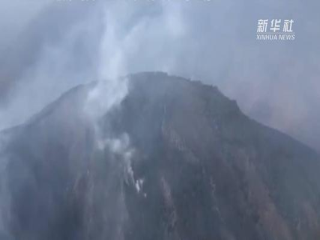smoke: (81, 58, 158, 201)
